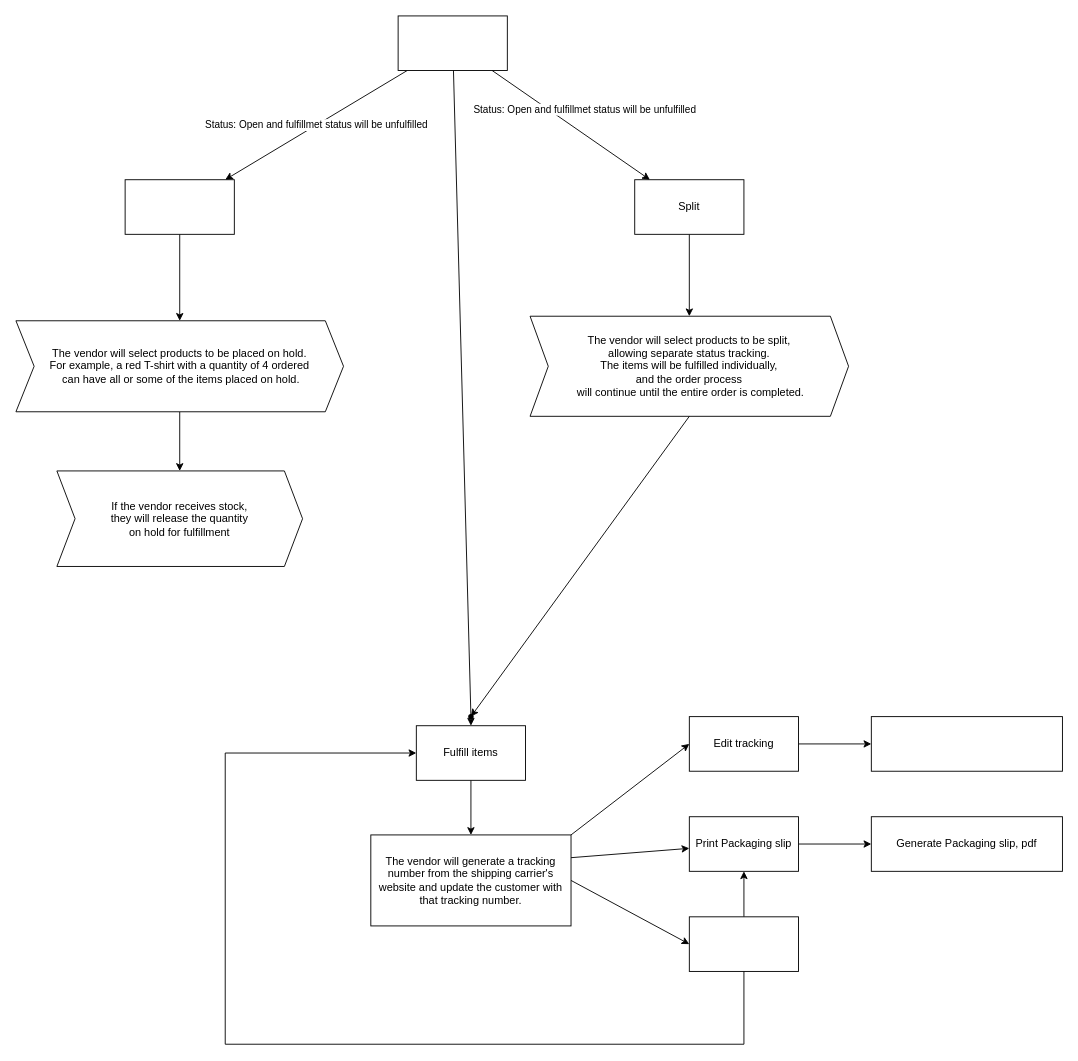
This 1078x1061 diagram has some shape labels left out. Each missing label, with the box of its shape:
Cancel fulfillment: (688, 916, 799, 971)
On hold: (124, 179, 234, 234)
Order Placed: (397, 15, 507, 71)
update tracking number and update customer with notification on email: (870, 716, 1062, 771)
